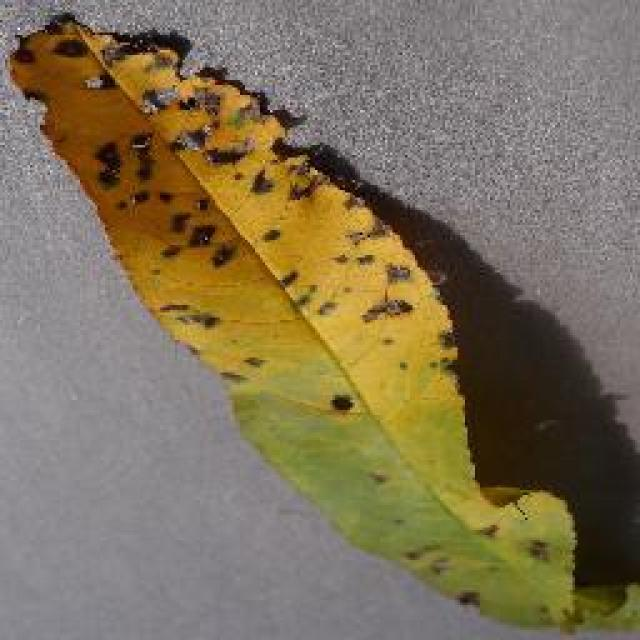Peach_Bacterial_Spot: (66, 27, 416, 330)
